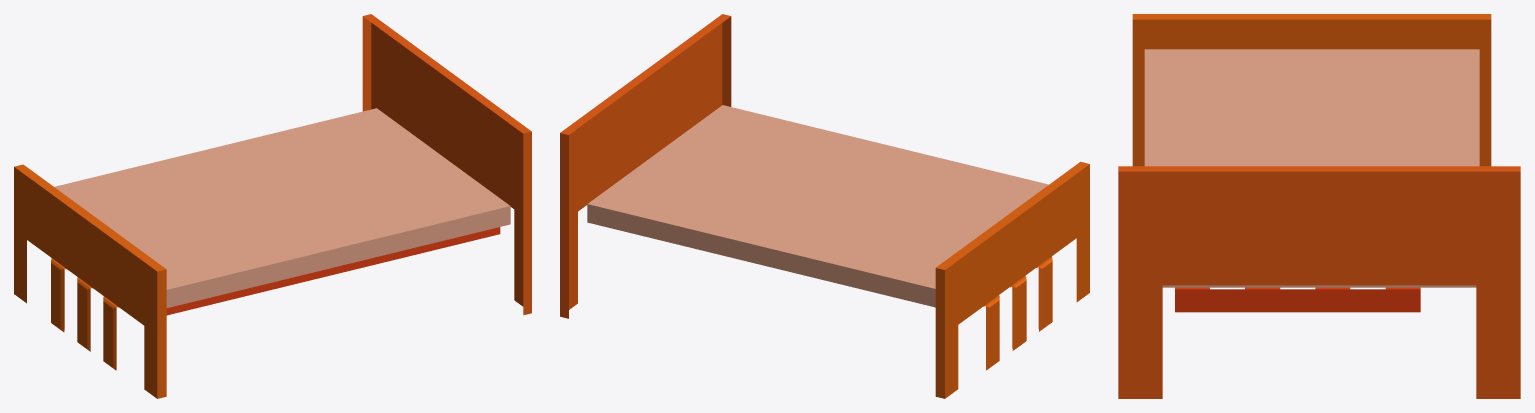
The model's file is bed5AARR.glb.
The picture shows the model from 3 angles, left to right: view 1: azimuth 30°, elevation 25°; view 2: azimuth 150°, elevation 25°; view 3: azimuth 270°, elevation 25°; orthographic projection. The views are drawn at different scales.
Visible parts, largest first — view 1: Box004, Box001, Box003, Box002; view 2: Box004, Box001, Box003; view 3: Box001, Box004, Box003, Box002.
Part boxes in pixels (x1=…): Box004: x1=54, y1=108, x2=510, y2=307; Box001: x1=362, y1=14, x2=531, y2=315; Box003: x1=14, y1=164, x2=166, y2=398; Box002: x1=166, y1=227, x2=500, y2=315; Box004: x1=587, y1=105, x2=1048, y2=307; Box001: x1=560, y1=14, x2=731, y2=318; Box003: x1=935, y1=161, x2=1089, y2=398; Box001: x1=1118, y1=166, x2=1520, y2=398; Box004: x1=1144, y1=49, x2=1479, y2=287; Box003: x1=1132, y1=14, x2=1491, y2=166; Box002: x1=1175, y1=287, x2=1420, y2=312.
Bounding box in the file's own units: 2.13 × 0.99 × 1.59.
